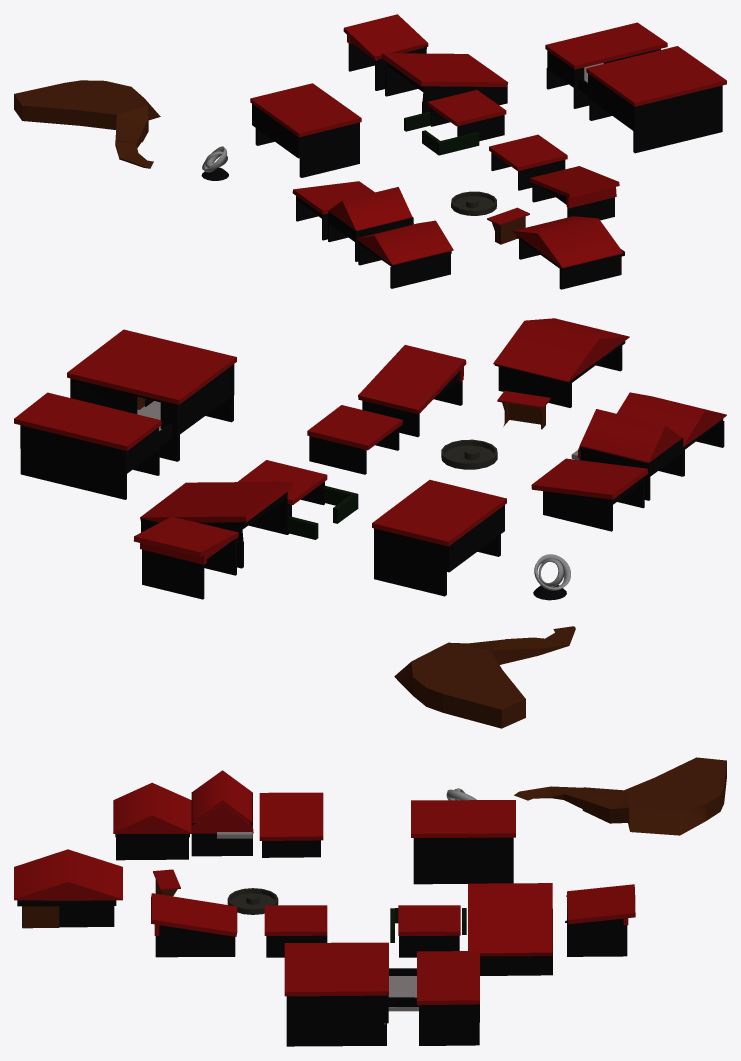
The model's file is SM_TotalAgain.FBX.
3 views of the same model, one above another, from view 1: azimuth 30°, elevation 25°; view 2: azimuth 150°, elevation 25°; view 3: azimuth 270°, elevation 25° (orthographic). The views are drawn at different scales.
Visible parts, largest first — view 1: SM_TotalAgain; view 2: SM_TotalAgain; view 3: SM_TotalAgain.
Boxes of the visible parts, bbox=[...] form: SM_TotalAgain: bbox=[14, 14, 726, 289]; SM_TotalAgain: bbox=[14, 318, 726, 728]; SM_TotalAgain: bbox=[14, 757, 726, 1046].
Size of the model in its own units: 9795 by 10693 by 1028.
